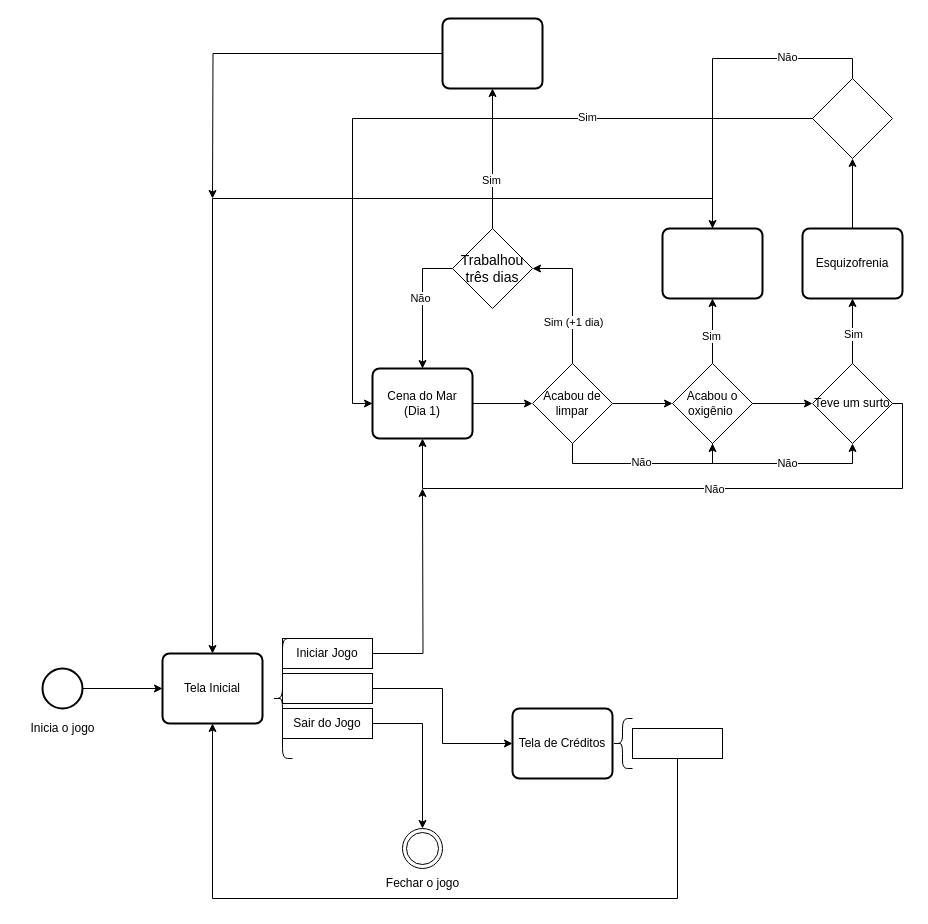
This 928x924 diagram has some shape labels left out. Here are the shapes that lost their labels. From the top down, the box of each, then its label:
(441, 17, 543, 89): Tela de Vitória
(812, 78, 892, 158): Sobreviveu
(661, 227, 763, 299): Tela de Game Over
(282, 672, 372, 704): Créditos
(632, 728, 722, 758): Voltar
